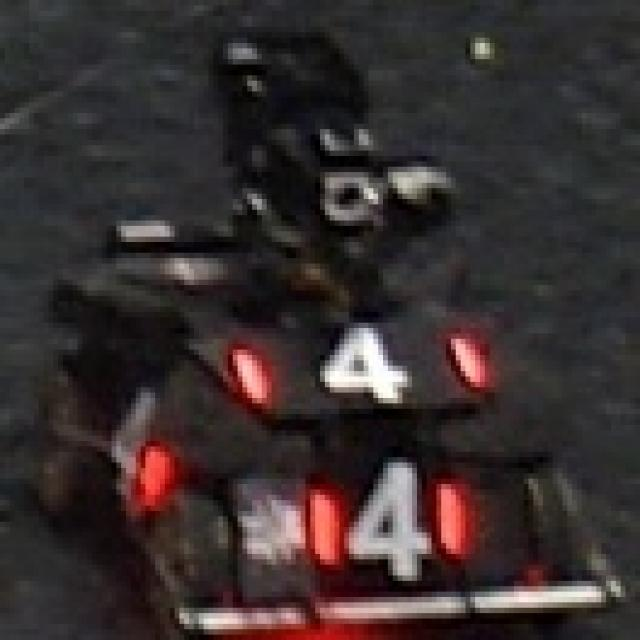R4: (305, 457, 480, 586), (233, 323, 480, 414), (97, 388, 175, 516)
